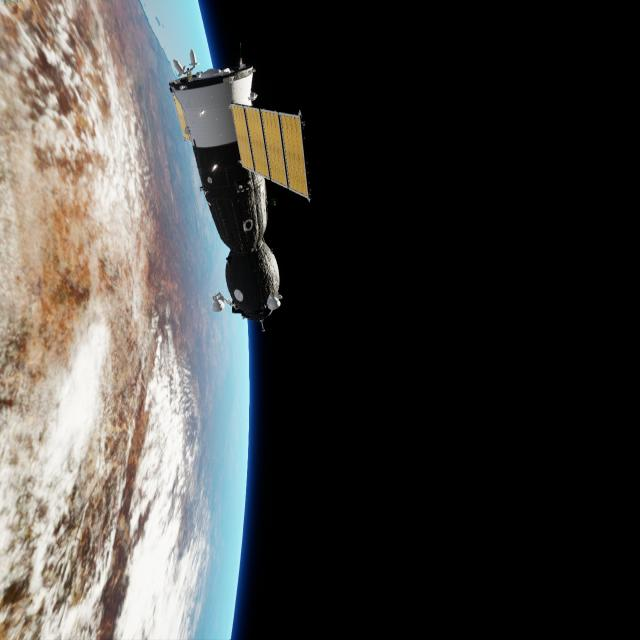Satellites revolving around earth: (1, 1, 253, 638), (166, 44, 312, 333)
